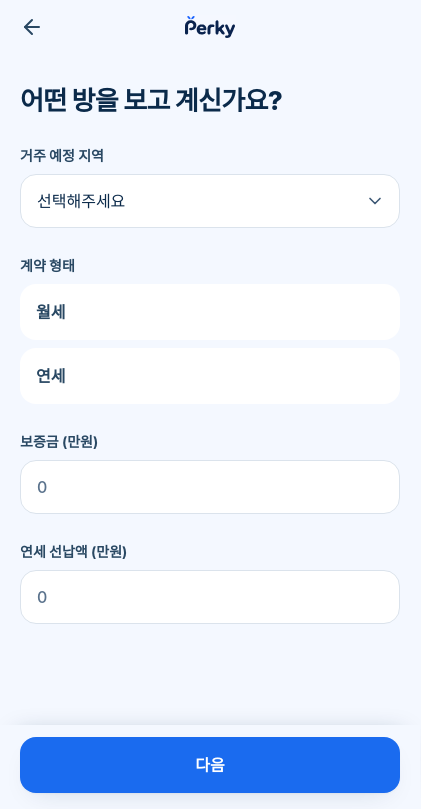
/calculate 계약 시작 예정일 (휠 피커) › 짧은 페이지 제목은 강제로 줄을 나누지 않는다
The width and height of the screenshot is (421, 809).
Select "전북특별자치도 익산시" in the dropdown at (210, 201), box [20, 174, 400, 228]
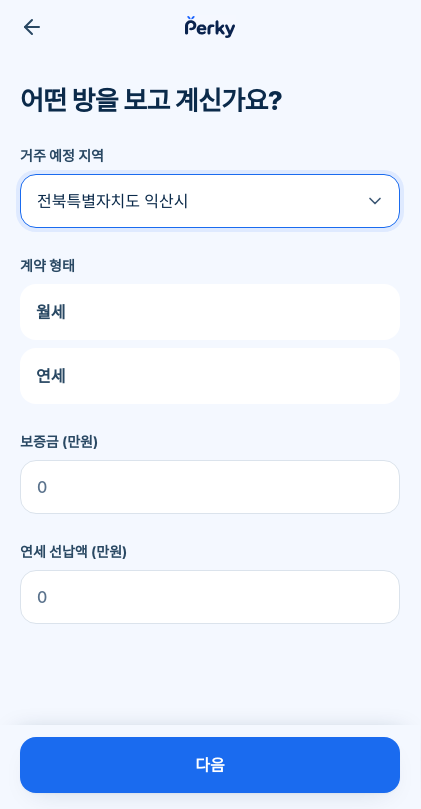
Click the button "월세" at (51, 312), box [20, 284, 400, 340]
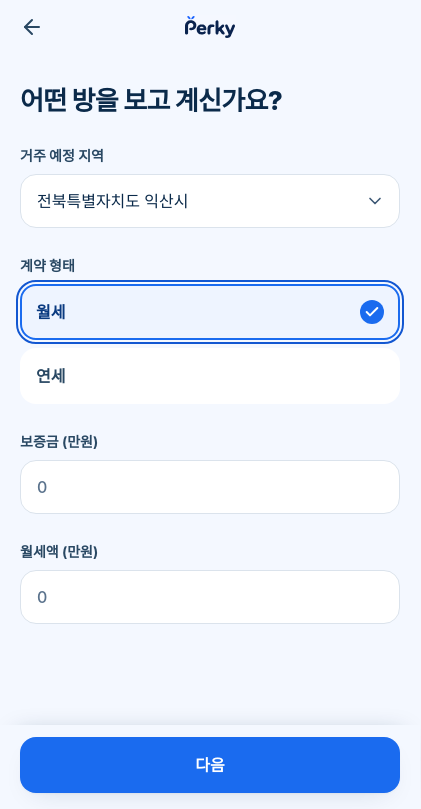
Type "35" into the number field labelled "월세액 (만원)" at (210, 597), box [20, 570, 400, 624]
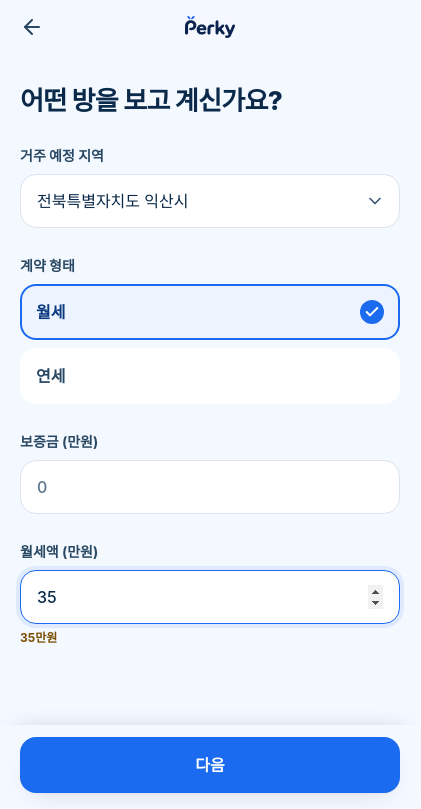
Click the button "다음" at (210, 765), box [20, 737, 400, 793]
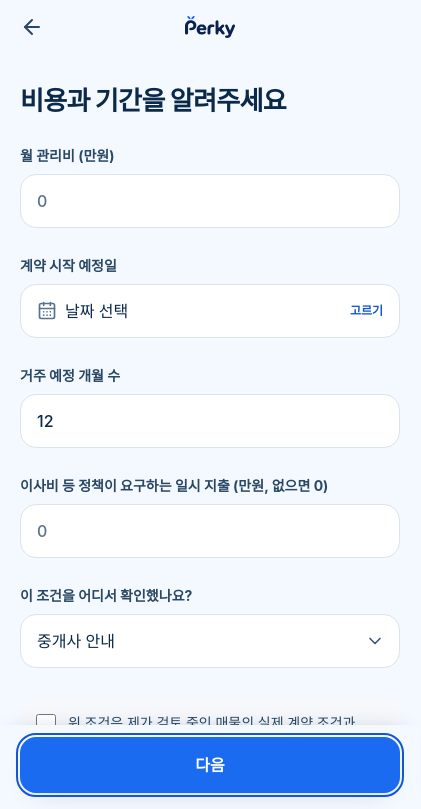
Expected: the heading reads "비용과 기간을 알려주세요", [20, 85, 286, 116]
